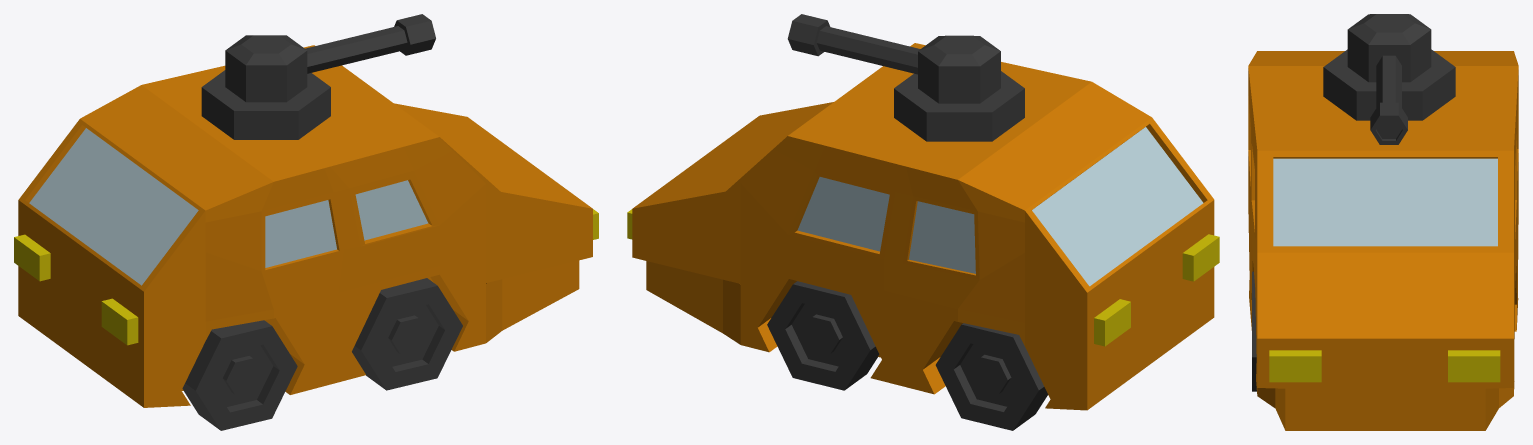
The model's file is jumper.fbx.
3 views of the same model, side by side, from view 1: azimuth 30°, elevation 25°; view 2: azimuth 150°, elevation 25°; view 3: azimuth 270°, elevation 25° (orthographic). The views are drawn at different scales.
Parts seen in each view (by area): view 1: Cube, Cylinder, Cylinder.001, Cylinder.000, Cylinder.004, Cube.004, Cube.003; view 2: Cube, Cylinder, Cylinder.002, Cylinder.003, Cylinder.004, Cube.004, Cube.003; view 3: Cube, Cylinder, Cylinder.004, Cube.001, Cube.002, Cylinder.000.
Part boxes in pixels (bbox=[...]): Cube: bbox=[18, 45, 592, 407]; Cylinder: bbox=[201, 35, 330, 139]; Cylinder.001: bbox=[182, 320, 297, 430]; Cylinder.000: bbox=[352, 278, 462, 390]; Cylinder.004: bbox=[305, 14, 435, 73]; Cube.004: bbox=[101, 298, 138, 345]; Cube.003: bbox=[14, 234, 50, 281]; Cube: bbox=[632, 43, 1214, 410]; Cylinder: bbox=[894, 35, 1024, 141]; Cylinder.002: bbox=[767, 281, 879, 390]; Cylinder.003: bbox=[935, 323, 1047, 430]; Cylinder.004: bbox=[787, 14, 920, 74]; Cube.004: bbox=[1182, 234, 1219, 281]; Cube.003: bbox=[1094, 299, 1130, 346]; Cube: bbox=[1248, 51, 1518, 430]; Cylinder: bbox=[1323, 14, 1455, 120]; Cylinder.004: bbox=[1370, 55, 1407, 144]; Cube.001: bbox=[1269, 350, 1321, 382]; Cube.002: bbox=[1448, 350, 1500, 382]; Cylinder.000: bbox=[1252, 271, 1256, 391].
Bounding box in the file's own units: 434 × 272 × 211.
